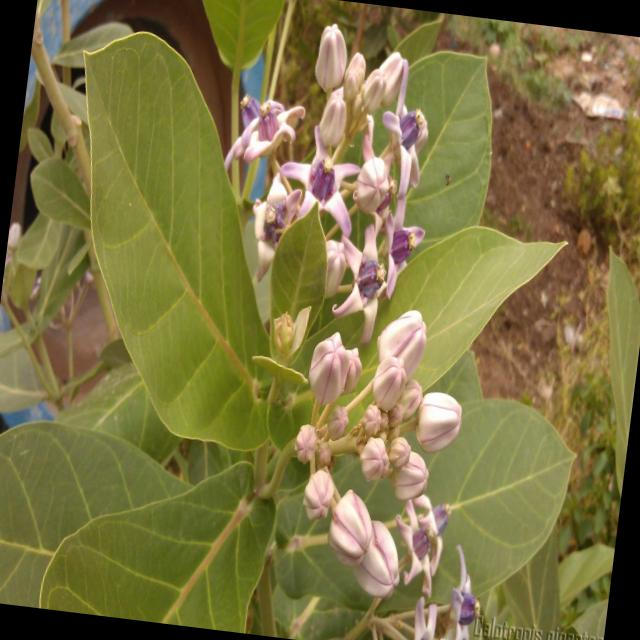Poisonous-Calatropis: (178, 6, 452, 502), (322, 310, 518, 640), (0, 426, 286, 635)
